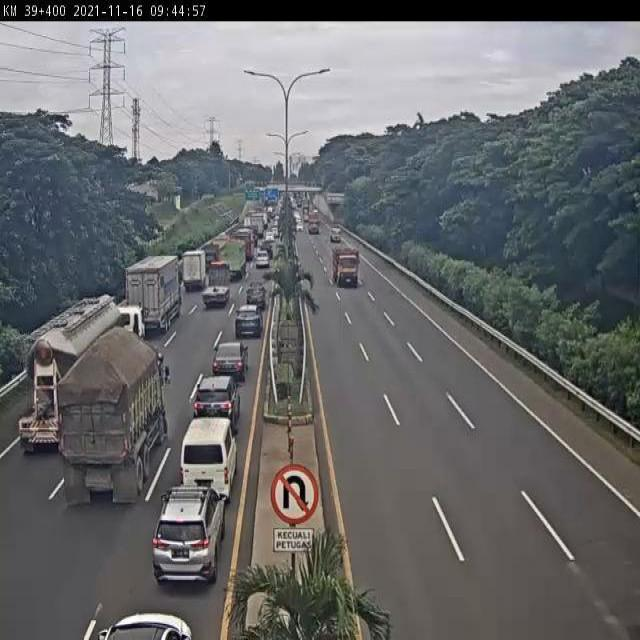car: (151, 488, 224, 581), (179, 420, 237, 497), (194, 375, 240, 433), (210, 345, 247, 383), (233, 308, 260, 341), (246, 283, 264, 308)
truck-l-: (52, 331, 167, 516), (123, 251, 182, 332), (216, 237, 246, 280)
truck-m-: (202, 265, 231, 312), (332, 244, 360, 287), (180, 247, 205, 288)
truck-xl-: (17, 299, 152, 452)
